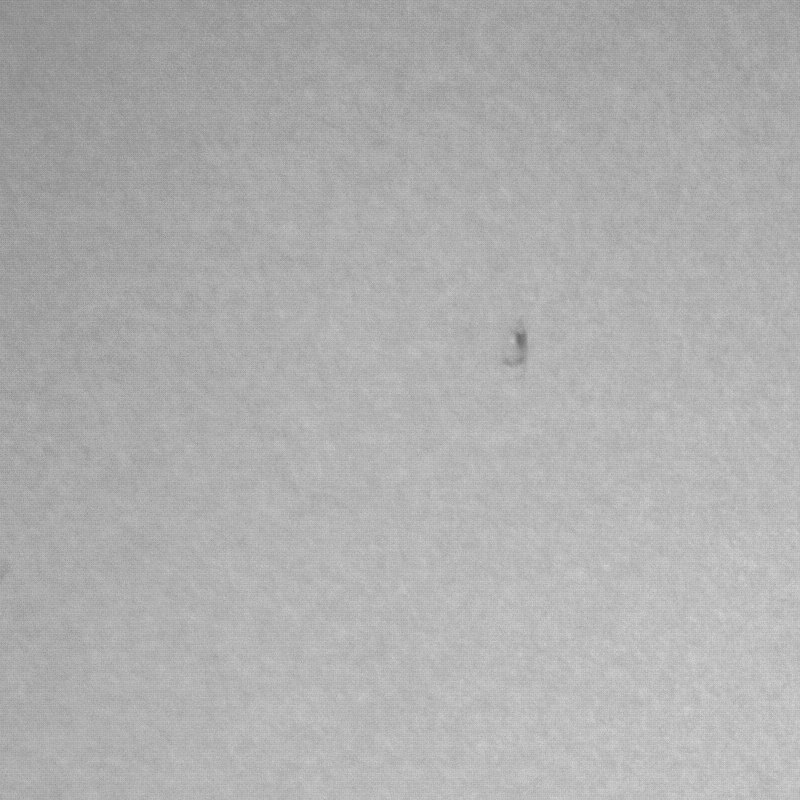defect: (503, 320, 531, 367)
